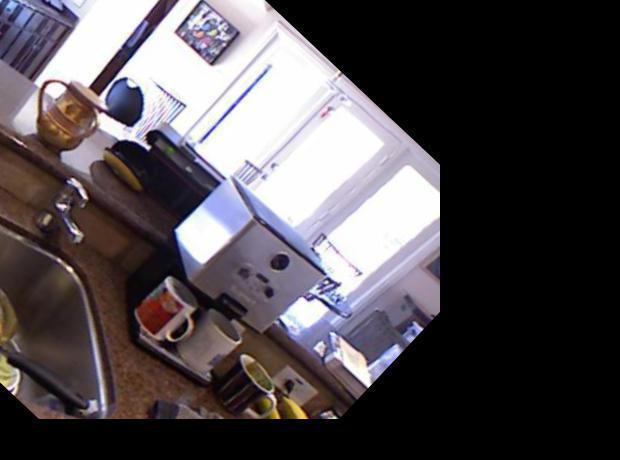Lavaplatos: (0, 0, 224, 454)
